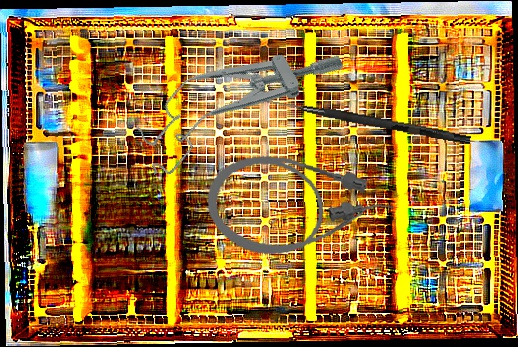Cannula: (199, 146, 400, 272)
Hook Surgical: (261, 96, 472, 145)
Speculum: (122, 13, 352, 181)
